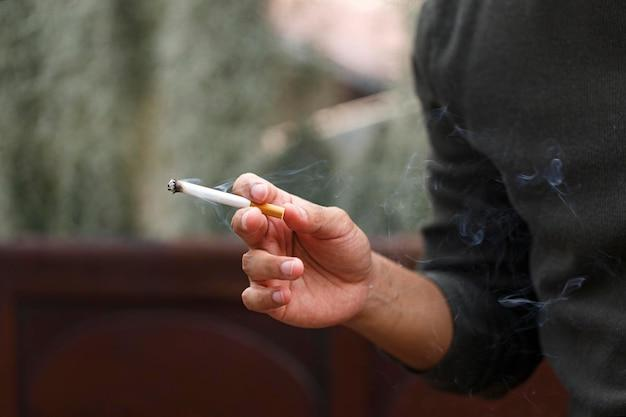cigarette: (168, 179, 284, 218)
